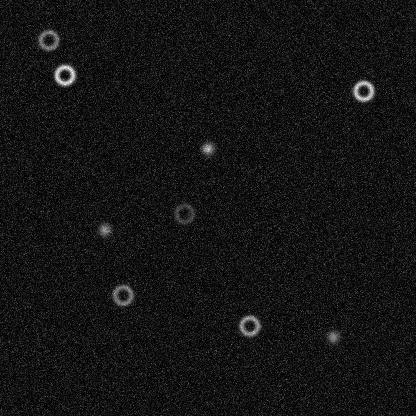Ring: (110, 282, 134, 306), (237, 313, 261, 337), (52, 62, 76, 86), (351, 78, 375, 102), (172, 201, 196, 225), (36, 27, 60, 51)
Spot: (199, 140, 215, 156), (325, 328, 341, 344), (96, 221, 112, 237)
